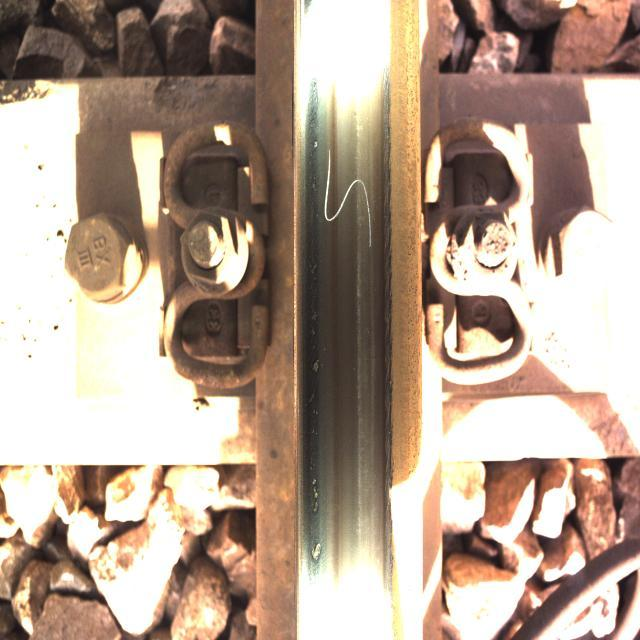normal: (293, 26, 382, 606)
